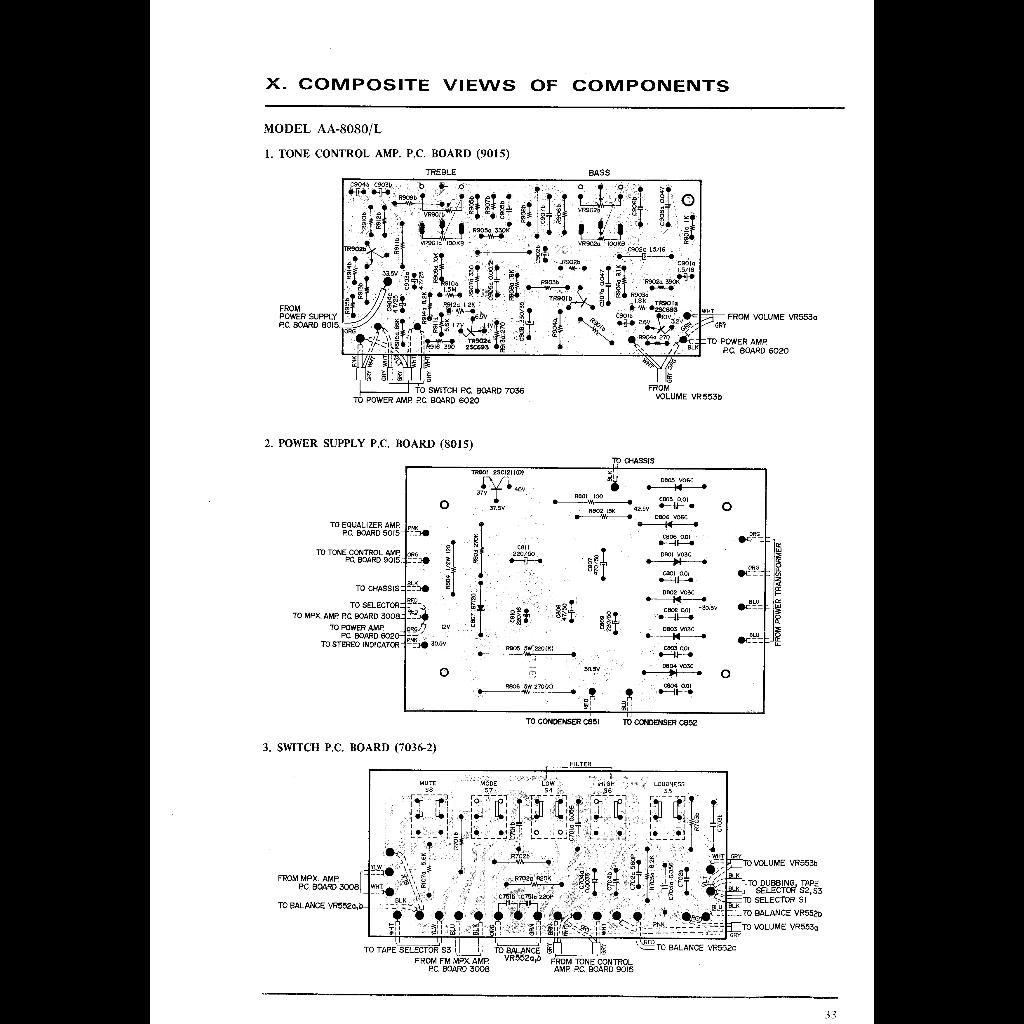Board: (294, 452, 804, 734), (262, 162, 830, 414), (272, 755, 836, 989)
